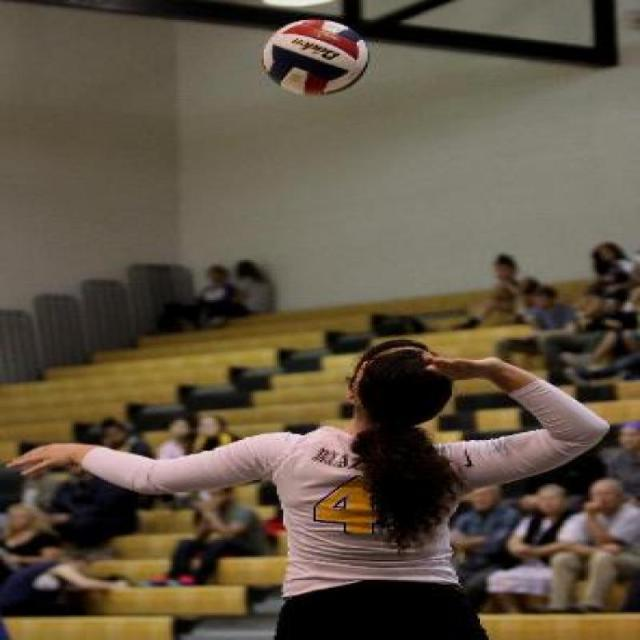volleyball: (262, 18, 372, 96)
